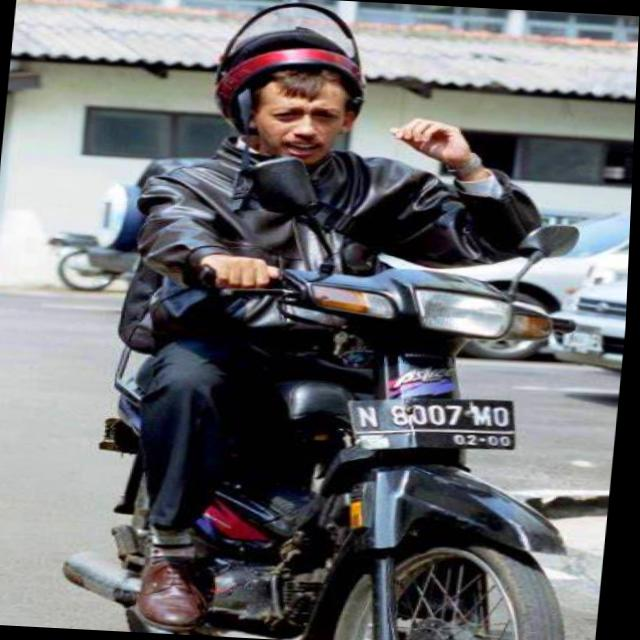illegal_helmet: (192, 0, 386, 170)
